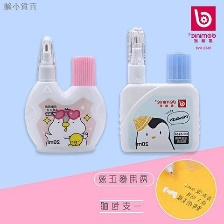correction_fluid: (117, 24, 201, 154), (23, 33, 108, 155)
